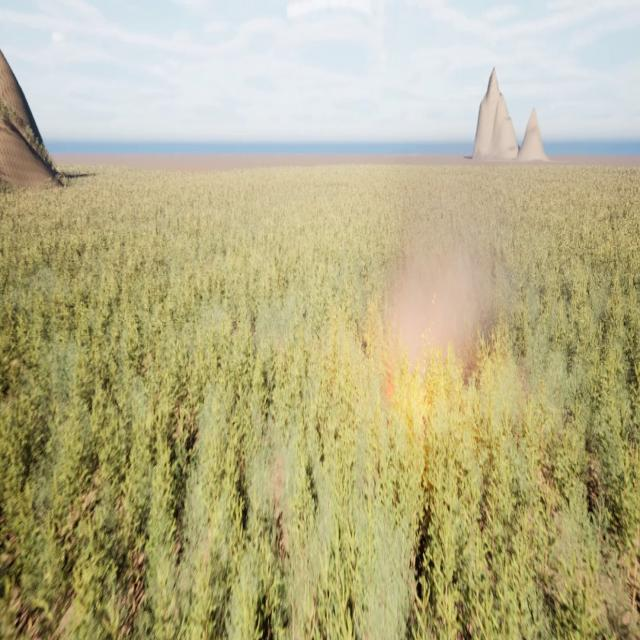smoke: (384, 228, 490, 374)
